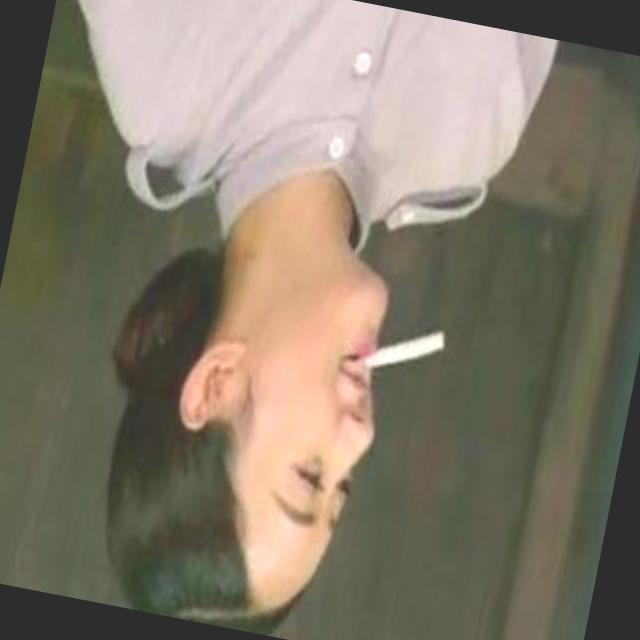smoke: (352, 312, 456, 385)
